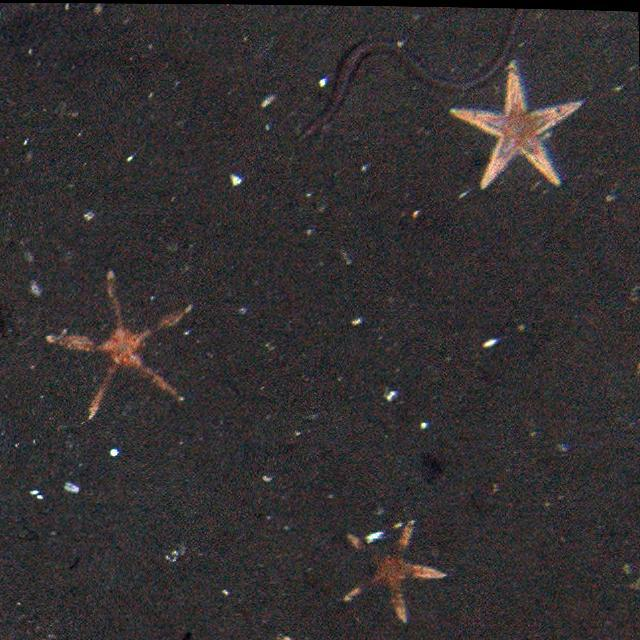eel: (298, 8, 522, 145)
